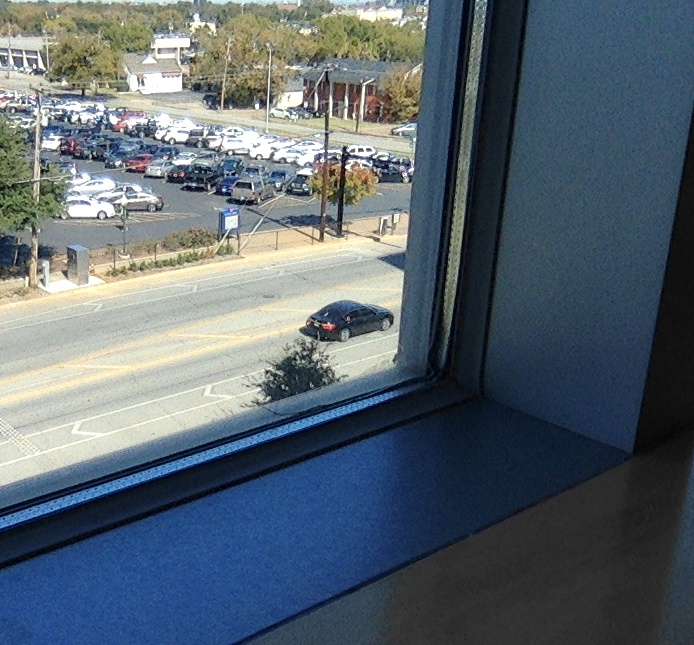car: (300, 300, 394, 345)
